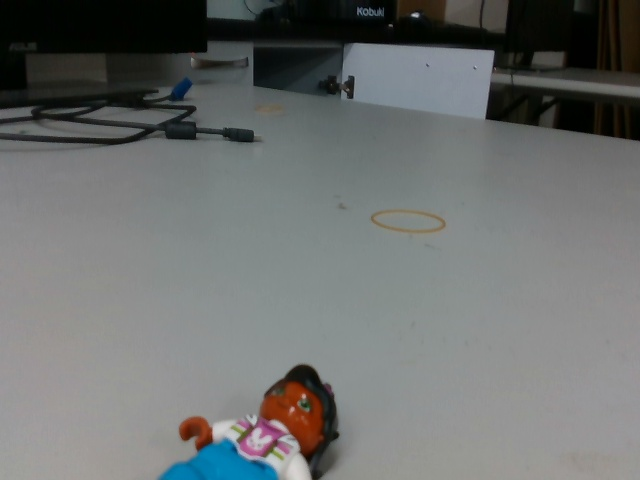people: (147, 361, 340, 480)
